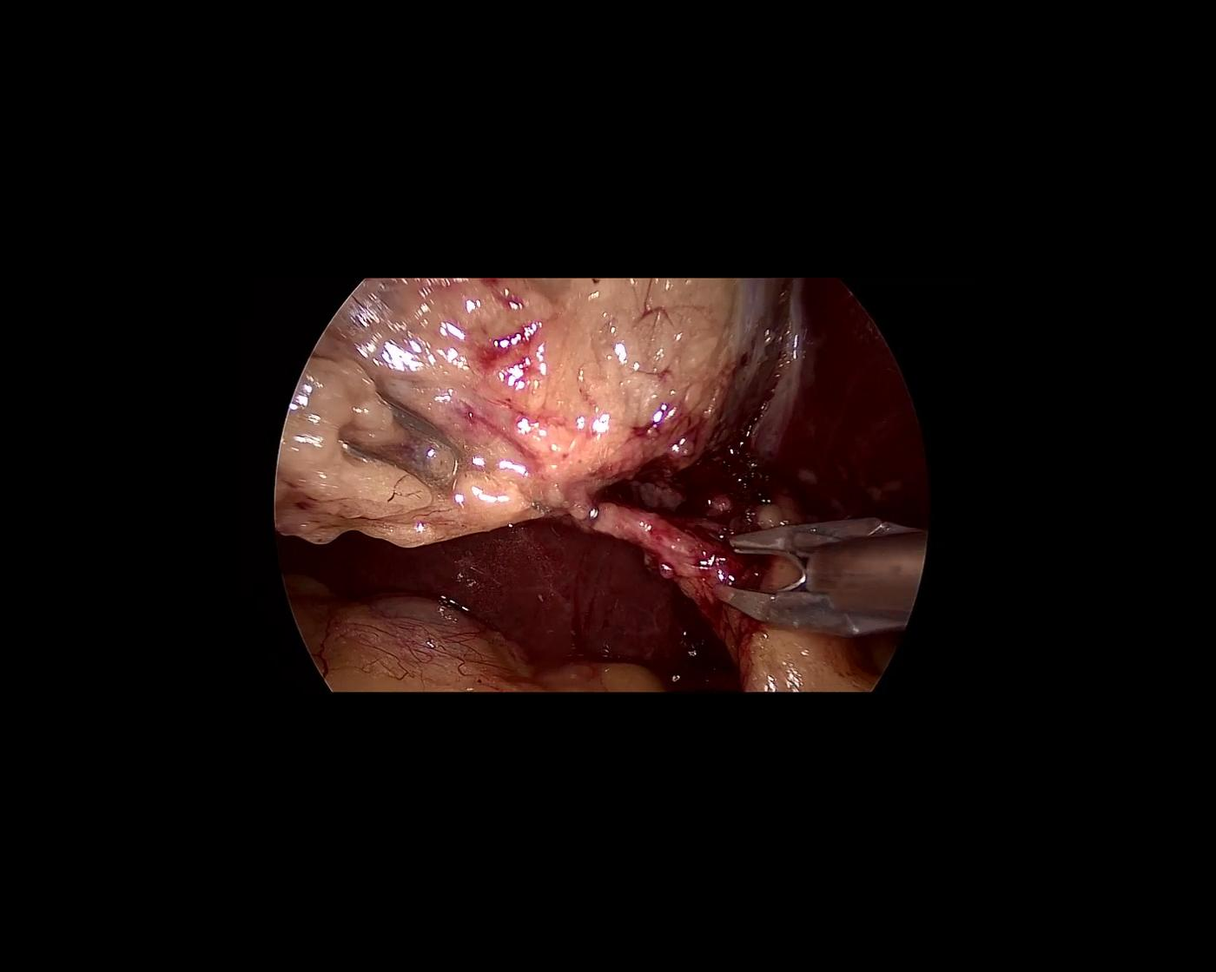Forceps: (273, 351, 477, 522)
Gallbladder: (276, 279, 783, 548)
Liver: (268, 439, 765, 729), (736, 278, 932, 523)
